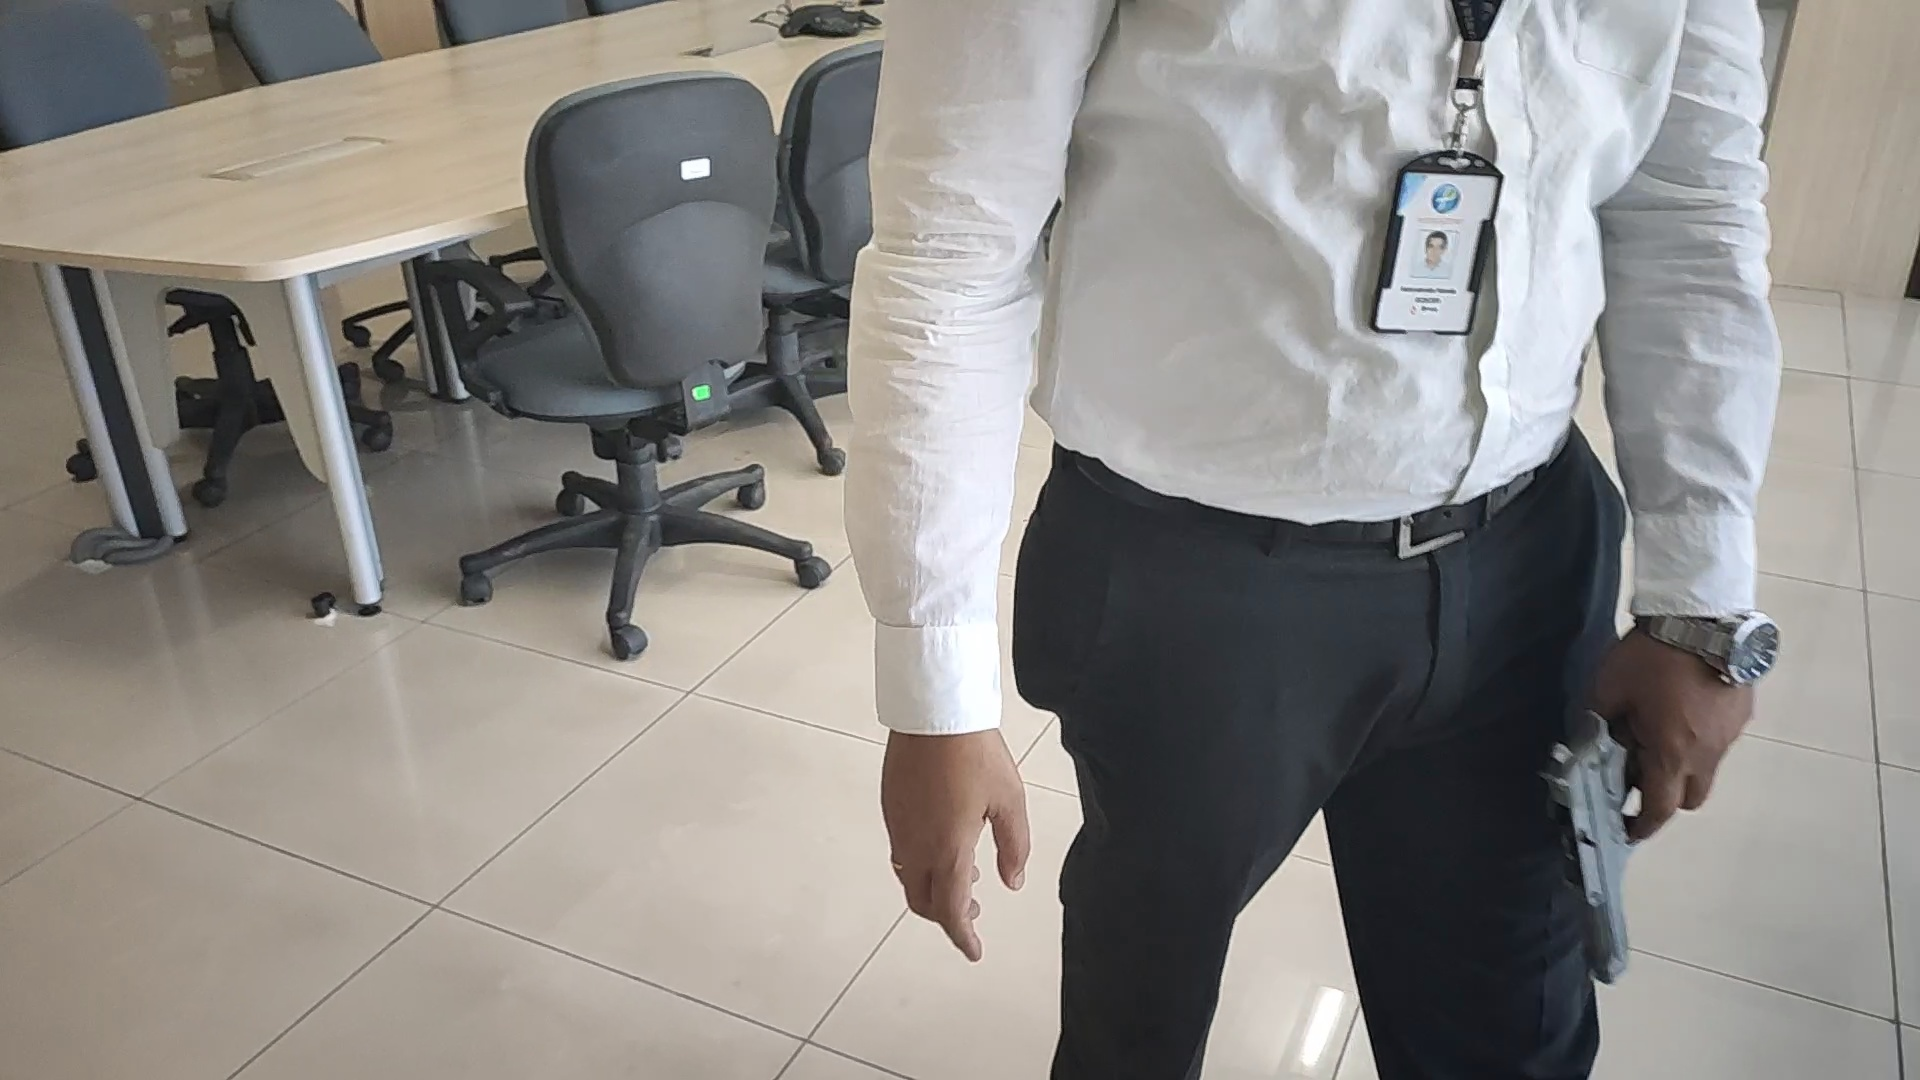gun: (1545, 708, 1648, 984)
